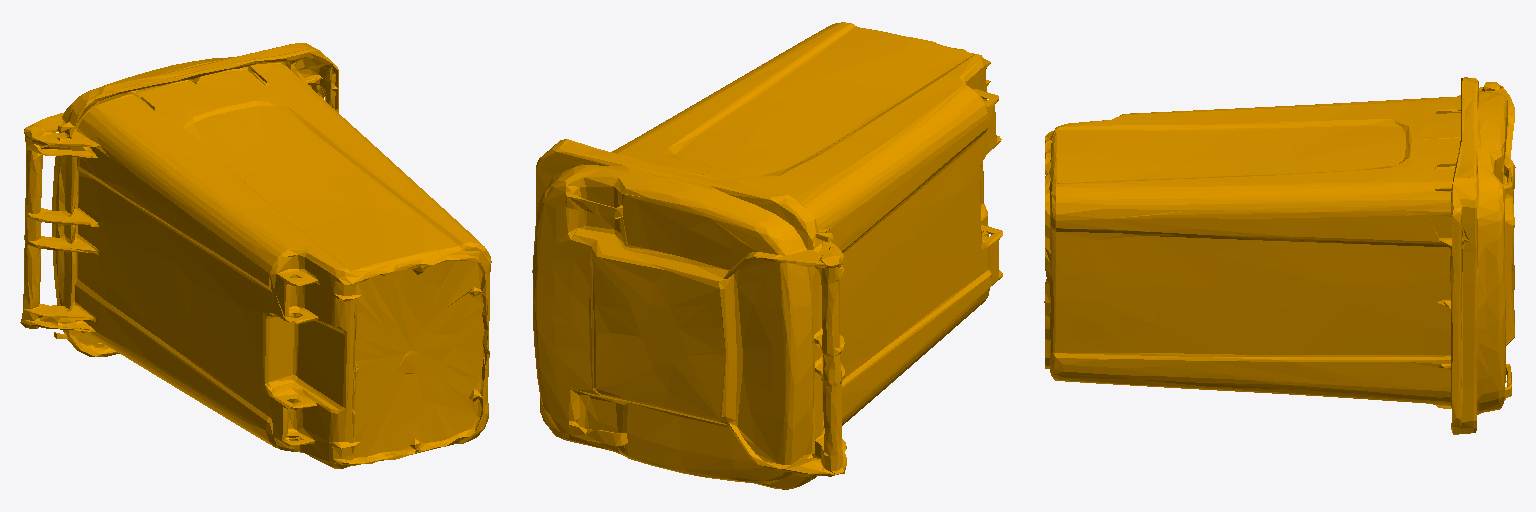
URDF robot description (bucket003):
<?xml version='1.0' encoding='utf-8'?>
<robot name="bucket003">
  <link name="bucket003_link">
    <inertial>
      <origin xyz="-0.00889580251366 0.0350185122591 0.000757320113873" rpy="0 0 0" />
      <mass value="4.0" />
      <inertia ixx="0.2256204147768" ixy="0.002971459466724" ixz="-3.829409338028e-05" iyy="0.0932214252464" iyz="-7.86586757704e-05" izz="0.2243241665128" />
    </inertial>
    <visual name="bucket003_visual">
      <origin xyz="0 0 0" rpy="0 0 0" />
      <geometry>
        <mesh filename="bucket003_m.obj" scale="1 1 1" />
      </geometry>
    </visual>
    <collision name="bucket003_mesh_collision">
      <origin xyz="0 0 0" rpy="0 0 0" />
      <geometry>
        <mesh filename="bucket003_m.obj" scale="1 1 1" />
      </geometry>
    </collision>
  </link>
</robot>

--- Render facts (derived) ---
3 views of the same robot in one strip: view 1: azimuth 30°, elevation 25°; view 2: azimuth 150°, elevation 25°; view 3: azimuth 270°, elevation 25° (orthographic).
Model bucket003 with 1 links and 0 joints (none), rooted at bucket003_link, posed every joint at zero.
Links seen in each view (by area): view 1: bucket003_link; view 2: bucket003_link; view 3: bucket003_link.
Link boxes in pixels (box(x1,y1,x2,y2)): bucket003_link: box(20, 43, 491, 468); bucket003_link: box(532, 22, 1002, 489); bucket003_link: box(1044, 77, 1515, 434).
Size in the robot's own frame: 0.5408 by 0.7628 by 0.4658 metres.
1 mesh visuals loaded from 1 distinct referenced files (1 OBJ).
